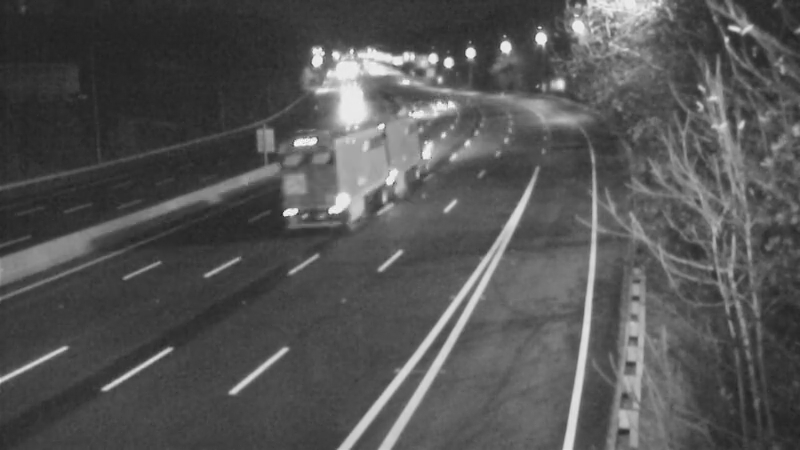vehicle: (308, 128, 388, 208), (376, 56, 426, 106), (423, 75, 473, 125), (387, 85, 437, 135), (325, 75, 375, 125)
